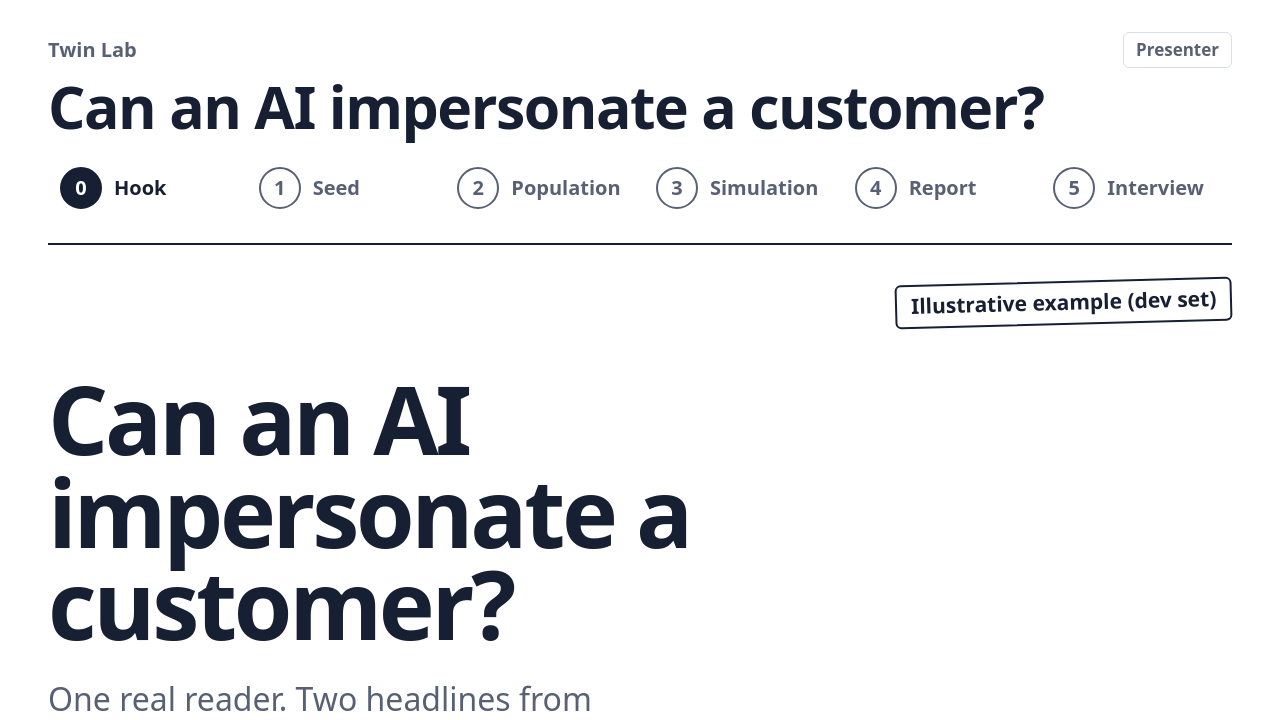
Scenario: Run picker › opens on the newest result run
The image size is (1280, 720).
Click the button "2 Population" at [541, 188], box [445,157,636,219]
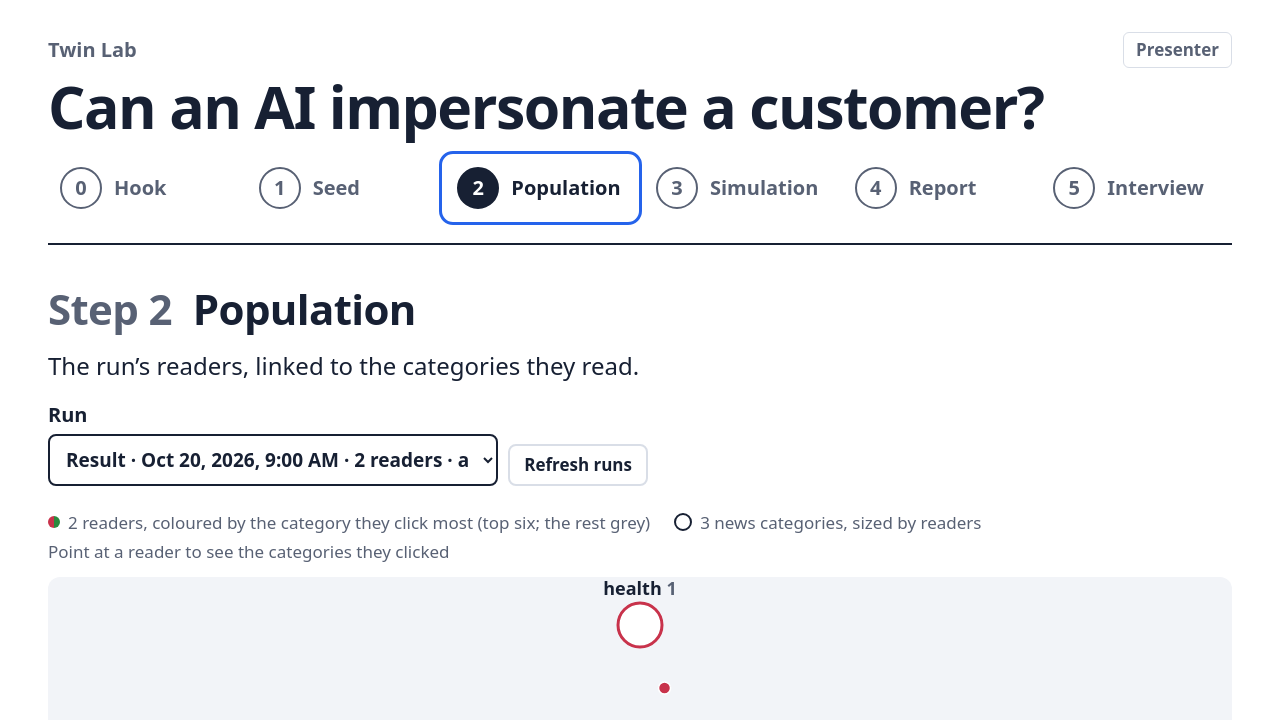
Now the dropdown labelled "Run" shows "Result · Oct 20, 2026, 9:00 AM · 2 readers · arms A B C D E random", box [48,434,498,486]
